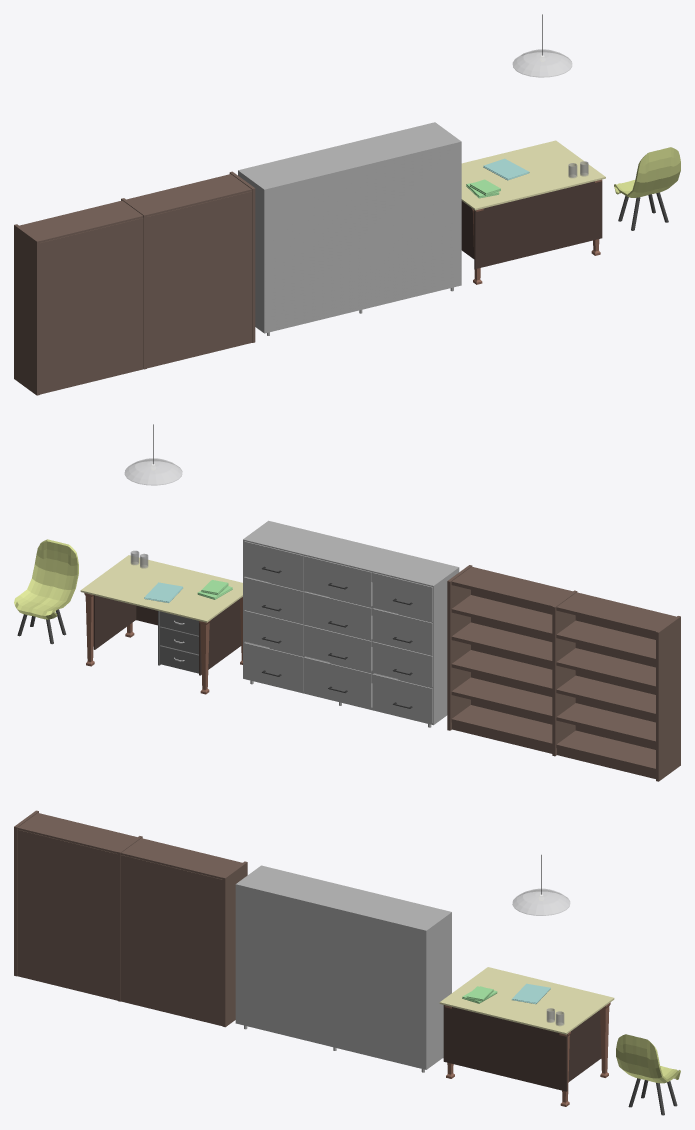
File: office_props.88a66055bb.glb
3 views of the same model, one above another, from view 1: azimuth 30°, elevation 25°; view 2: azimuth 150°, elevation 25°; view 3: azimuth 330°, elevation 25° (orthographic). The views are drawn at different scales.
Visible parts, largest first — view 1: bookcase, archivio_corpo, lato3, piano, sedia_seduta, pCylinder26, lato1; view 2: bookcase, archivio_corpo, piano, sedia_seduta, lato1, lato, pCylinder26, cassetti3, cassetti2, cassetti1, zampe1, zampe2; view 3: bookcase, archivio_corpo, lato3, piano, sedia_seduta, lato, pCylinder26, zampe2, libro2, sedia_gambe2.
Boxes of the visible parts, bbox=[...] form: bookcase: bbox=[14, 171, 255, 395]; archivio_corpo: bbox=[238, 122, 461, 335]; lato3: bbox=[474, 181, 602, 269]; piano: bbox=[461, 140, 605, 210]; sedia_seduta: bbox=[614, 147, 680, 197]; pCylinder26: bbox=[512, 49, 572, 77]; lato1: bbox=[461, 201, 474, 258]; bookcase: bbox=[447, 565, 680, 781]; archivio_corpo: bbox=[243, 520, 459, 727]; piano: bbox=[80, 555, 242, 622]; sedia_seduta: bbox=[14, 539, 78, 619]; lato1: bbox=[199, 599, 241, 675]; lato: bbox=[93, 595, 136, 649]; pCylinder26: bbox=[124, 458, 182, 485]; cassetti3: bbox=[160, 645, 198, 673]; cassetti2: bbox=[160, 626, 198, 654]; cassetti1: bbox=[160, 611, 198, 635]; zampe1: bbox=[199, 620, 210, 694]; zampe2: bbox=[84, 593, 94, 666]; bookcase: bbox=[14, 810, 247, 1027]; archivio_corpo: bbox=[235, 865, 451, 1072]; lato3: bbox=[443, 1005, 567, 1091]; piano: bbox=[439, 967, 614, 1034]; sedia_seduta: bbox=[616, 1034, 680, 1083]; lato: bbox=[568, 1010, 601, 1081]; pCylinder26: bbox=[512, 888, 570, 915]; zampe2: bbox=[600, 1002, 610, 1077]; libro2: bbox=[511, 983, 550, 1004]; sedia_gambe2: bbox=[628, 1078, 677, 1115].
Size of the model in its own units: 72.45 by 25.21 by 9.71.
